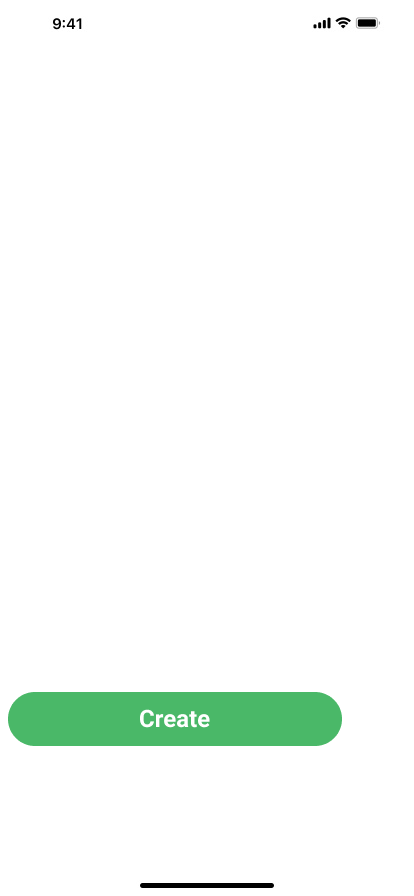Buttons: (8, 692, 342, 746)
Home Indicator: (0, 862, 414, 896)
Status Bar: (0, 0, 414, 44)
